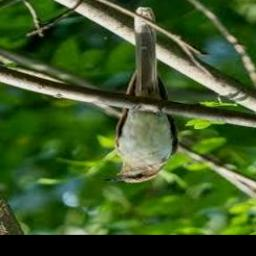Cuckoo: (102, 10, 178, 183)
